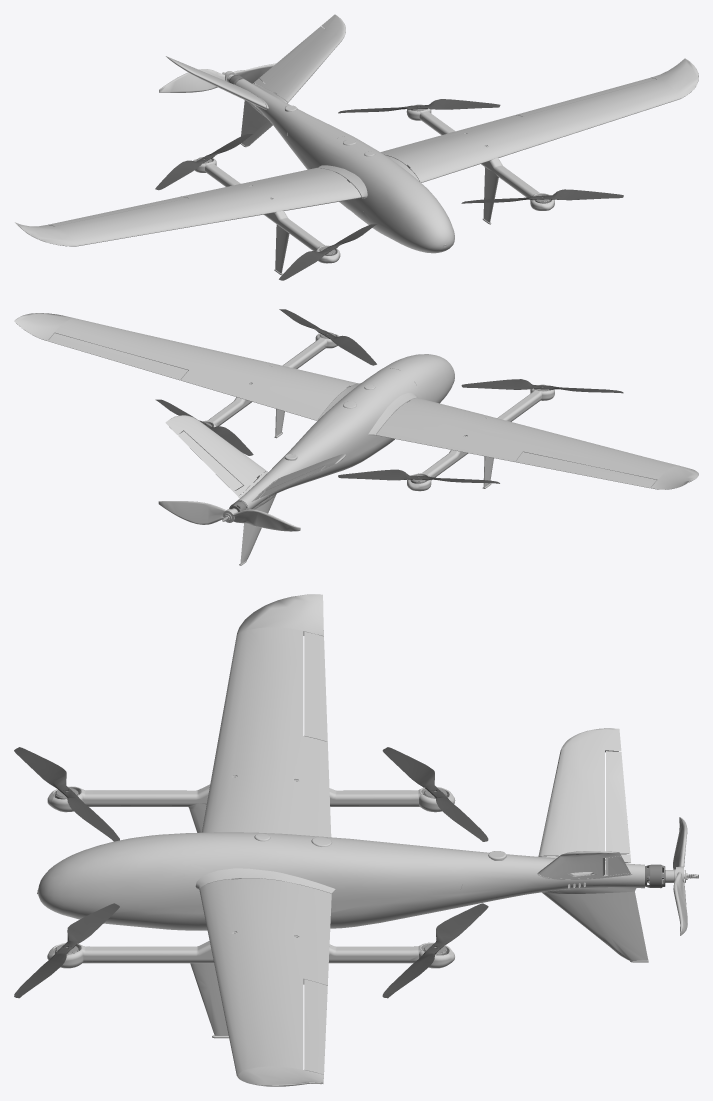
The model's file is bfly.glb.
The picture shows the model from 3 angles, top to bottom: view 1: azimuth 30°, elevation 25°; view 2: azimuth 150°, elevation 25°; view 3: azimuth 270°, elevation 25°; orthographic projection. The views are drawn at different scales.
Visible parts, largest first — view 1: Body1; view 2: Body1; view 3: Body1.
Part boxes in pixels (x1,y1,x2,y2): Body1: (15, 14, 698, 280); Body1: (14, 309, 698, 565); Body1: (14, 594, 698, 1086).
Size of the model in its own units: 251 by 41.2 by 149.
1 material, 1 textured.
